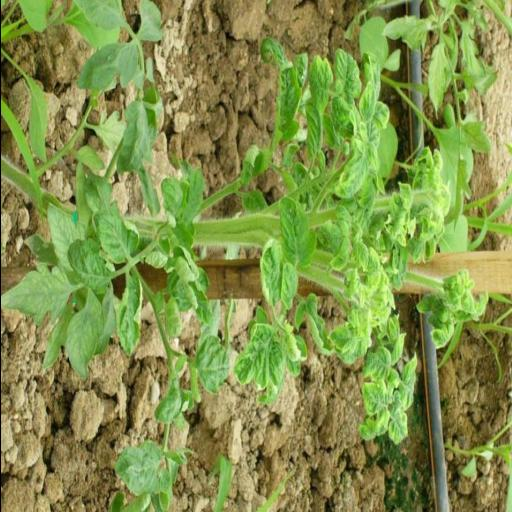Yellow Leaf Curl Virus: (91, 197, 141, 263), (234, 320, 275, 394), (332, 137, 380, 199), (278, 196, 316, 268), (274, 57, 302, 143), (116, 275, 144, 357), (306, 294, 332, 356), (282, 318, 308, 378), (260, 237, 282, 307), (306, 54, 332, 110), (333, 48, 361, 98), (384, 192, 408, 248), (303, 98, 322, 162), (396, 351, 416, 410), (361, 378, 392, 415), (360, 345, 390, 382), (358, 410, 390, 442), (280, 260, 298, 312), (387, 408, 409, 446), (326, 324, 352, 356), (357, 78, 375, 122), (428, 320, 454, 350), (350, 233, 368, 272), (368, 102, 389, 132), (390, 332, 406, 366), (292, 300, 308, 332)
